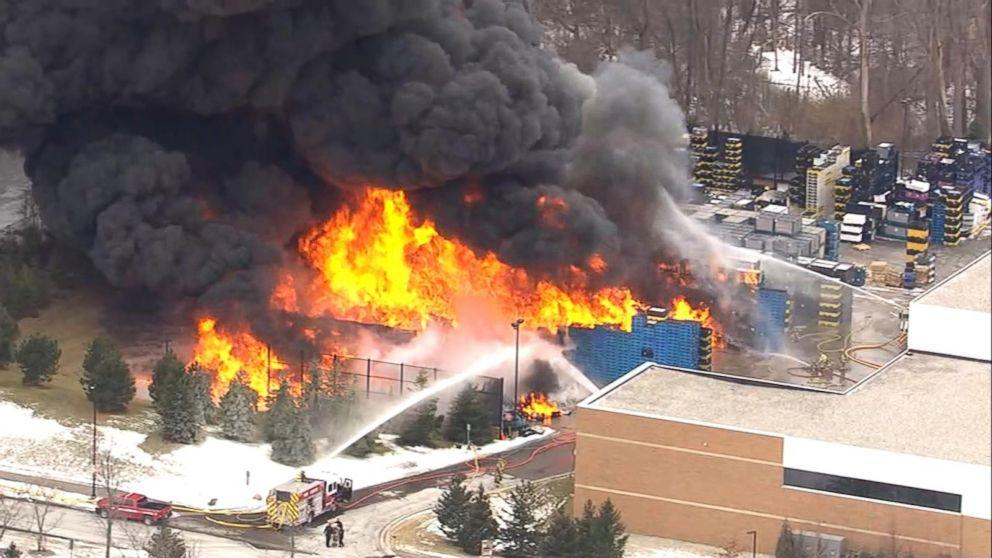Fire: (259, 173, 721, 365), (173, 306, 315, 415)
